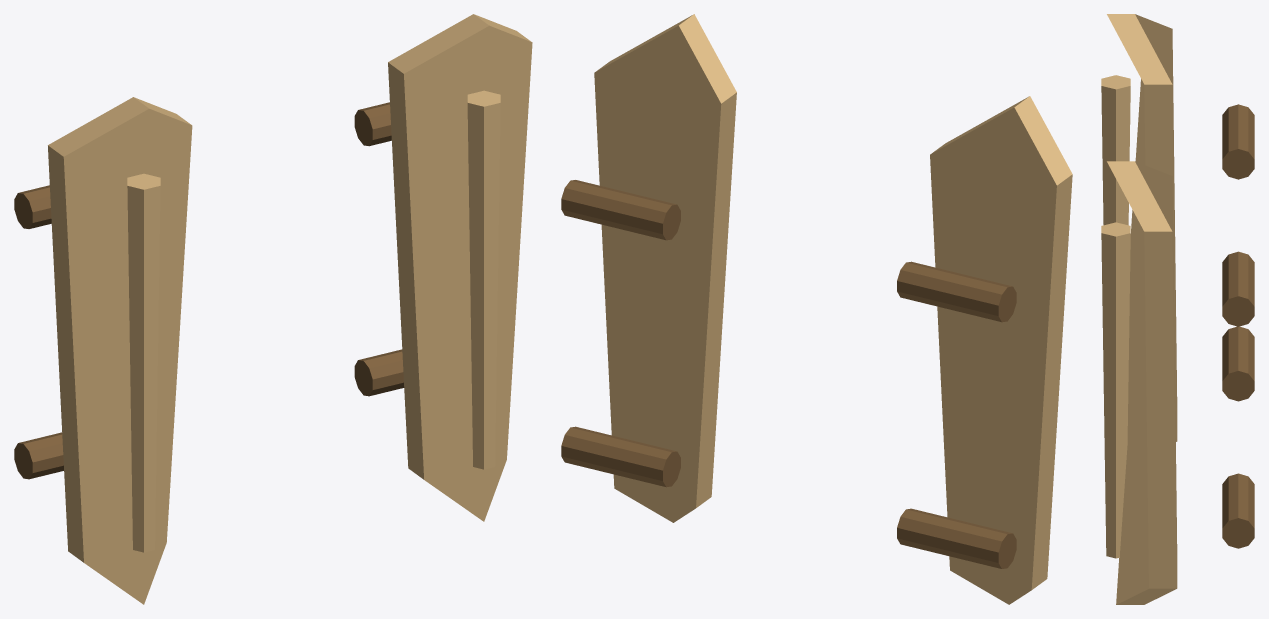
Rendered from greaves.glb.
3 views of the same model, side by side, from view 1: azimuth 30°, elevation 25°; view 2: azimuth 150°, elevation 25°; view 3: azimuth 270°, elevation 25° (orthographic). The views are drawn at different scales.
Parts seen in each view (by area): view 1: Greave face.001, Greave face, Greave central ridge, Greave central ridge.001, Greave strap, Greave strap.002, Greave strap.001, Greave strap.003; view 2: Greave face, Greave face.001, Greave strap.003, Greave strap, Greave strap.001, Greave strap.002; view 3: Greave face.001, Greave face, Greave central ridge.001, Greave central ridge, Greave strap.001, Greave strap, Greave strap.003, Greave strap.002.
Part boxes in pixels (x1=…): Greave face.001: x1=388, y1=14, x2=532, y2=521; Greave face: x1=48, y1=97, x2=192, y2=604; Greave central ridge: x1=127, y1=173, x2=160, y2=552; Greave central ridge.001: x1=467, y1=90, x2=500, y2=469; Greave strap: x1=14, y1=432, x2=63, y2=479; Greave strap.002: x1=354, y1=349, x2=404, y2=396; Greave strap.001: x1=14, y1=185, x2=51, y2=228; Greave strap.003: x1=354, y1=102, x2=391, y2=146; Greave face: x1=930, y1=96, x2=1072, y2=604; Greave face.001: x1=594, y1=14, x2=736, y2=522; Greave strap.003: x1=561, y1=180, x2=680, y2=240; Greave strap: x1=897, y1=508, x2=1016, y2=568; Greave strap.001: x1=897, y1=261, x2=1016, y2=322; Greave strap.002: x1=561, y1=426, x2=680, y2=487; Greave face.001: x1=1107, y1=161, x2=1177, y2=604; Greave face: x1=1107, y1=14, x2=1177, y2=441; Greave central ridge.001: x1=1101, y1=222, x2=1130, y2=558; Greave central ridge: x1=1101, y1=75, x2=1130, y2=225; Greave strap.001: x1=1222, y1=104, x2=1254, y2=179; Greave strap: x1=1222, y1=326, x2=1254, y2=401; Greave strap.003: x1=1222, y1=251, x2=1254, y2=326; Greave strap.002: x1=1222, y1=473, x2=1254, y2=548.
Bounding box in the file's own units: 0.51 × 0.52 × 0.1627.
